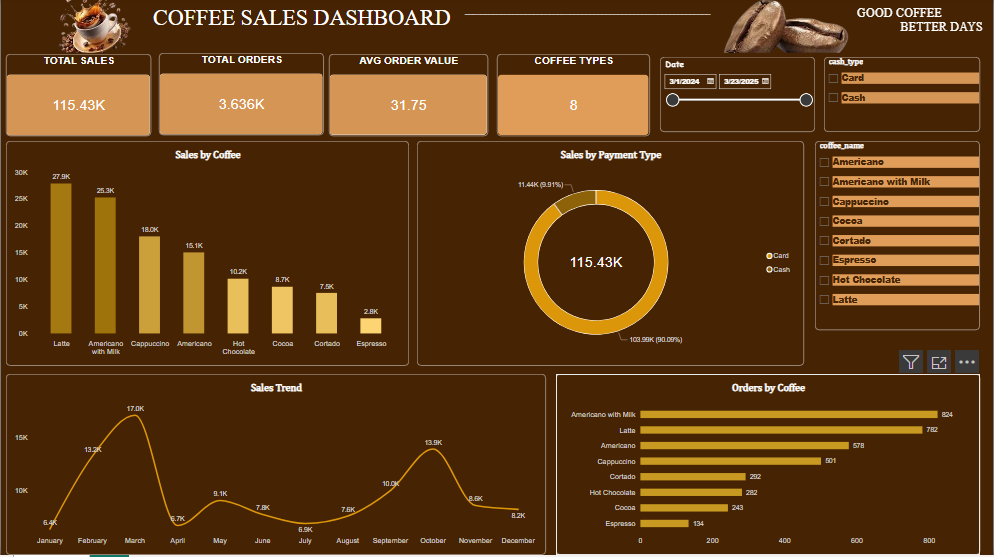

This screenshot's page, from the dashboard's own definition file:
{"tool":"powerbi","page":{"name":"Page 1","canvas":[1920,1080],"ordinal":0},"visuals":[{"type":"cardVisual","title":"TOTAL SALES ","fields":{"Data":["Sum(index_1.money)"]},"box":[9.7,110.3,280.6,159.4],"z":0},{"type":"cardVisual","title":"TOTAL ORDERS","fields":{"Data":["CountNonNull(index_1.coffee_name)"]},"box":[305,108.8,318.9,159.4],"z":1000},{"type":"cardVisual","title":"AVG ORDER VALUE ","fields":{"Data":["Avg(index_1.money)"]},"box":[634.8,110.3,307.7,158.7],"z":2000},{"type":"cardVisual","title":" COFFEE TYPES","fields":{"Data":["Count(index_1.coffee_name)"]},"box":[960,109.4,295.5,159.4],"z":3000},{"type":"clusteredColumnChart","title":"Sales by Coffee","fields":{"Category":["index_1.coffee_name"],"Y":["Sum(index_1.money)"]},"box":[9.7,278.7,780,435.5],"z":4000},{"type":"donutChart","title":"Sales by Payment Type","fields":{"Category":["index_1.cash_type"],"Y":["Sum(index_1.money)"]},"box":[805.2,278.7,749,435.5],"z":5000},{"type":"lineChart","title":"Sales Trend","fields":{"Category":["index_1.Date.Variation.Date Hierarchy.Year","index_1.Date.Variation.Date Hierarchy.Quarter","index_1.Date.Variation.Date Hierarchy.Month","index_1.Date.Variation.Date Hierarchy.Day"],"Y":["Sum(index_1.money)"]},"box":[9.7,729.7,1045.2,350.3],"z":6000},{"type":"barChart","title":"Orders by Coffee","fields":{"Category":["index_1.coffee_name"],"Y":["CountNonNull(index_1.coffee_name)"]},"box":[1074.2,729.7,820.6,350.3],"z":7000},{"type":"slicer","fields":{"Values":["index_1.coffee_name"]},"box":[1575.5,278.7,319.4,365.8],"z":8000},{"type":"slicer","fields":{"Values":["index_1.cash_type"]},"box":[1592.4,116.9,301.9,144.6],"z":9000},{"type":"slicer","fields":{"Values":["index_1.Date"]},"box":[1275.5,116.1,300,145.2],"z":10000},{"type":"textbox","box":[251.6,0,772.3,85.2],"z":11000},{"type":"image","box":[0,0,360,108.4],"z":12000},{"type":"textbox","box":[874.8,17.4,1006.5,38.7],"z":13000},{"type":"image","box":[1377.6,0,278.5,108.4],"z":14000},{"type":"textbox","box":[1656.8,17.4,263.2,91],"z":15000}]}

Visuals, with their boxes in screenshot pixels (x1, y1, x2, y2), scaled from the page's 1920x1080 canvas onto the 994x557 screenshot:
"TOTAL SALES " cardVisual: box=[5, 57, 150, 139]
"TOTAL ORDERS" cardVisual: box=[158, 56, 323, 138]
"AVG ORDER VALUE " cardVisual: box=[329, 57, 488, 139]
" COFFEE TYPES" cardVisual: box=[497, 56, 650, 139]
"Sales by Coffee" clusteredColumnChart: box=[5, 144, 409, 368]
"Sales by Payment Type" donutChart: box=[417, 144, 805, 368]
"Sales Trend" lineChart: box=[5, 376, 546, 556]
"Orders by Coffee" barChart: box=[556, 376, 981, 556]
slicer - index_1.coffee_name: box=[816, 144, 981, 332]
slicer - index_1.cash_type: box=[824, 60, 981, 135]
slicer - index_1.Date: box=[660, 60, 816, 135]
textbox: box=[130, 0, 530, 44]
image: box=[0, 0, 186, 56]
textbox: box=[453, 9, 974, 29]
image: box=[713, 0, 857, 56]
textbox: box=[858, 9, 993, 56]
